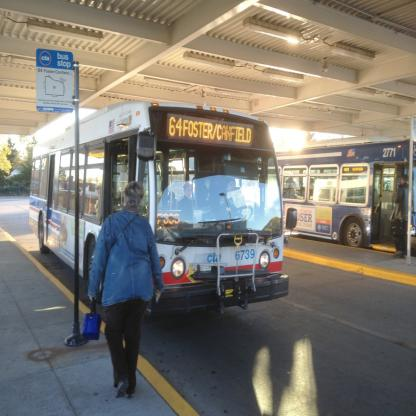Bus: (28, 98, 288, 314), (184, 138, 416, 251)
